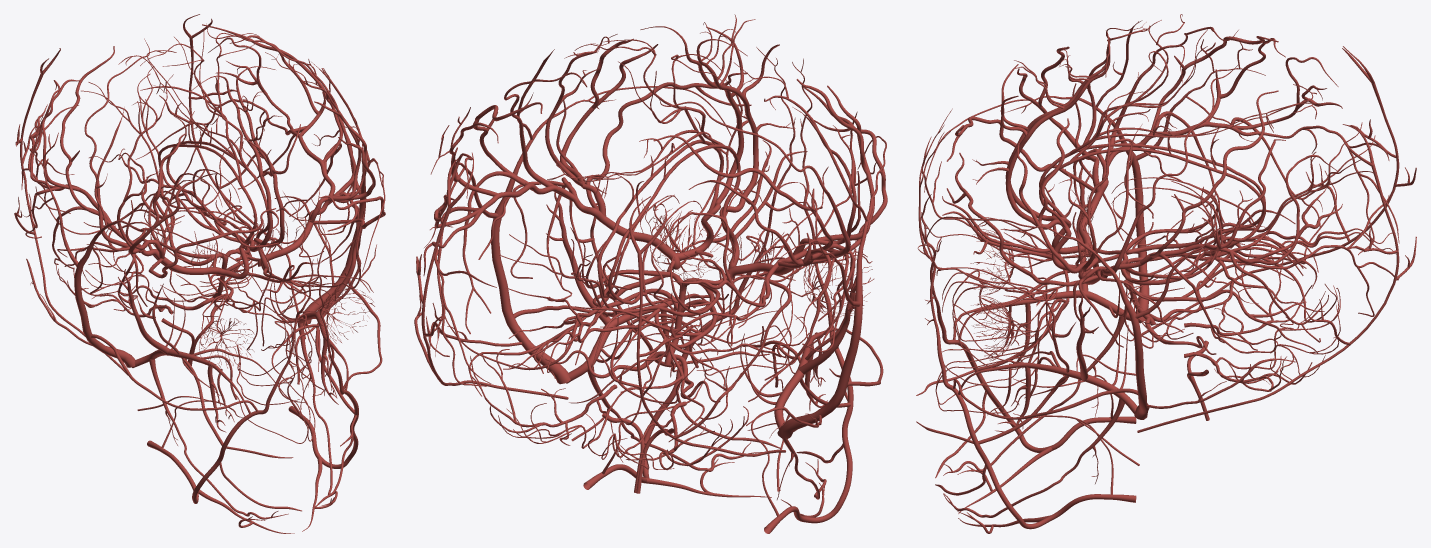
The model's file is arterial-head-balanced.glb.
3 renders of one model, left to right at view 1: azimuth 30°, elevation 25°; view 2: azimuth 150°, elevation 25°; view 3: azimuth 270°, elevation 25°, orthographic. The views are drawn at different scales.
Parts seen in each view (by area): view 1: za.superficial-temporal-artery-r, za.pericallosal-artery-r, za.superficial-temporal-artery-l, za.posterior-cerebral-artery-r, za.pericallosal-artery-l, za.occipital-artery-r, za.posterior-cerebral-artery-l, za.occipital-artery-l, za.callosomarginal-artery-r, za.callosomarginal-artery-l, za.maxillary-artery-r, za.posterior-inferior-cerebellar-artery-r (+37 smaller); view 2: za.superficial-temporal-artery-r, za.superficial-temporal-artery-l, za.pericallosal-artery-r, za.pericallosal-artery-l, za.posterior-cerebral-artery-r, za.occipital-artery-r, za.posterior-cerebral-artery-l, za.occipital-artery-l, za.posterior-inferior-cerebellar-artery-l, za.callosomarginal-artery-r, za.posterior-inferior-cerebellar-artery-r, za.superior-cerebellar-artery-r (+39 smaller); view 3: za.superficial-temporal-artery-l, za.superficial-temporal-artery-r, za.pericallosal-artery-l, za.pericallosal-artery-r, za.posterior-cerebral-artery-l, za.occipital-artery-l, za.occipital-artery-r, za.posterior-cerebral-artery-r, za.callosomarginal-artery-l, za.posterior-inferior-cerebellar-artery-r, za.facial-artery-l, za.maxillary-artery-l (+35 smaller).
Part boxes in pixels (x1,y1,x2,y2): za.superficial-temporal-artery-r: (21, 107, 171, 367); za.pericallosal-artery-r: (118, 37, 257, 243); za.superficial-temporal-artery-l: (274, 59, 382, 323); za.posterior-cerebral-artery-r: (83, 173, 227, 301); za.pericallosal-artery-l: (146, 29, 268, 238); za.occipital-artery-r: (14, 48, 127, 375); za.posterior-cerebral-artery-l: (191, 169, 323, 263); za.occipital-artery-l: (159, 14, 305, 339); za.callosomarginal-artery-r: (191, 75, 278, 251); za.callosomarginal-artery-l: (236, 66, 312, 247); za.maxillary-artery-r: (132, 349, 234, 432); za.posterior-inferior-cerebellar-artery-r: (56, 223, 173, 317); za.superficial-temporal-artery-r: (746, 107, 884, 438); za.superficial-temporal-artery-l: (424, 49, 615, 384); za.pericallosal-artery-r: (583, 54, 740, 304); za.pericallosal-artery-l: (547, 39, 723, 297); za.posterior-cerebral-artery-r: (642, 200, 809, 393); za.occipital-artery-r: (599, 196, 785, 456); za.posterior-cerebral-artery-l: (503, 195, 685, 369); za.occipital-artery-l: (414, 152, 568, 399); za.posterior-inferior-cerebellar-artery-l: (468, 349, 617, 448); za.callosomarginal-artery-r: (696, 19, 795, 223); za.posterior-inferior-cerebellar-artery-r: (584, 401, 748, 470); za.superior-cerebellar-artery-r: (591, 299, 717, 441); za.superficial-temporal-artery-l: (1005, 124, 1295, 419); za.superficial-temporal-artery-r: (1005, 20, 1295, 320); za.pericallosal-artery-l: (1039, 45, 1316, 241); za.pericallosal-artery-r: (1039, 14, 1316, 228); za.posterior-cerebral-artery-l: (1111, 187, 1324, 342); za.occipital-artery-l: (1137, 124, 1416, 432); za.occipital-artery-r: (1141, 46, 1416, 335); za.posterior-cerebral-artery-r: (1111, 177, 1324, 260); za.callosomarginal-artery-l: (972, 53, 1110, 233); za.posterior-inferior-cerebellar-artery-r: (1184, 247, 1340, 353); za.facial-artery-l: (965, 417, 1136, 529); za.maxillary-artery-l: (987, 362, 1137, 432).
Size of the model in its own units: 0.1489 by 0.2031 by 0.1916.
